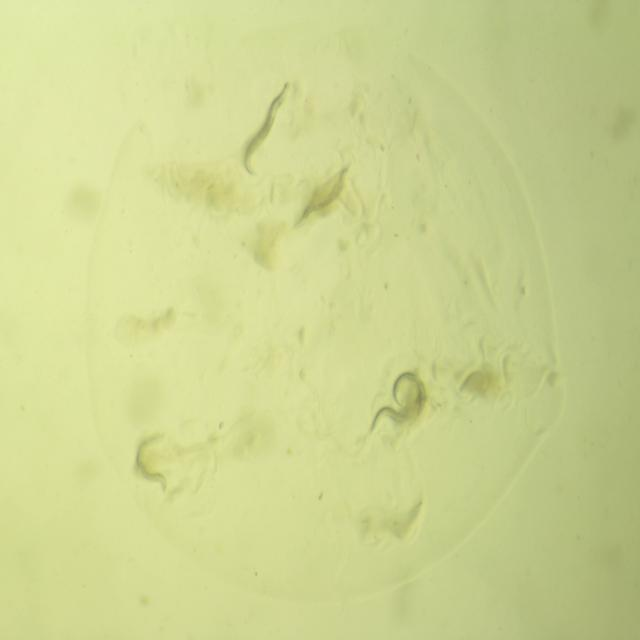worm: (236, 72, 298, 191), (284, 153, 356, 244), (363, 389, 447, 450), (120, 416, 180, 501), (380, 358, 434, 437)
